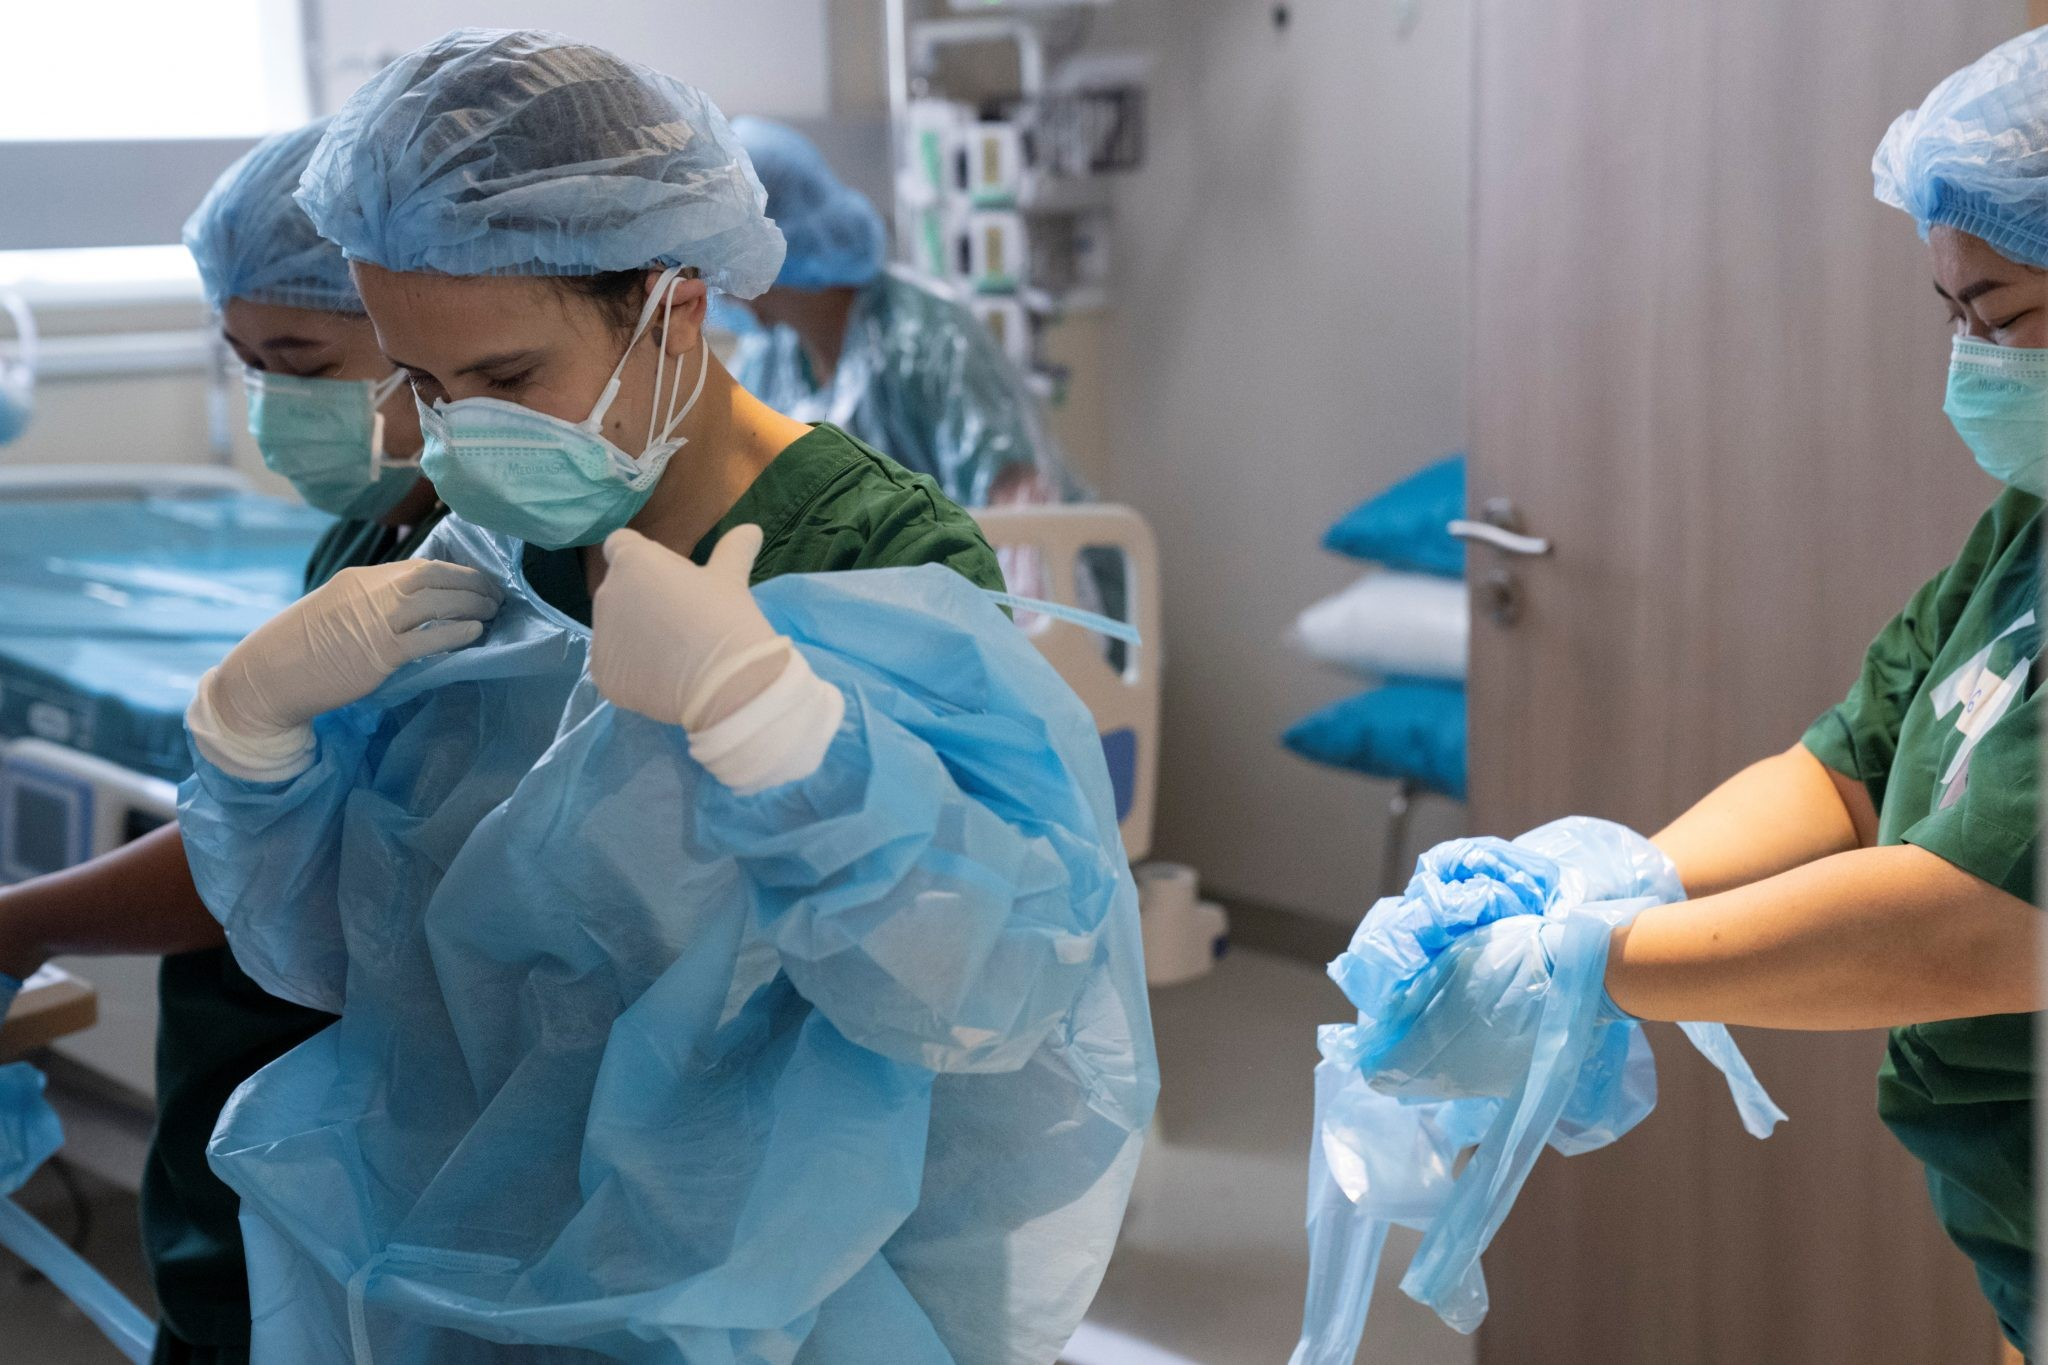Coverall: (151, 482, 1164, 1365)
Gloves: (184, 555, 506, 784), (577, 526, 826, 791)
with_mask: (390, 315, 677, 560), (215, 326, 410, 520), (1915, 266, 2048, 506)
